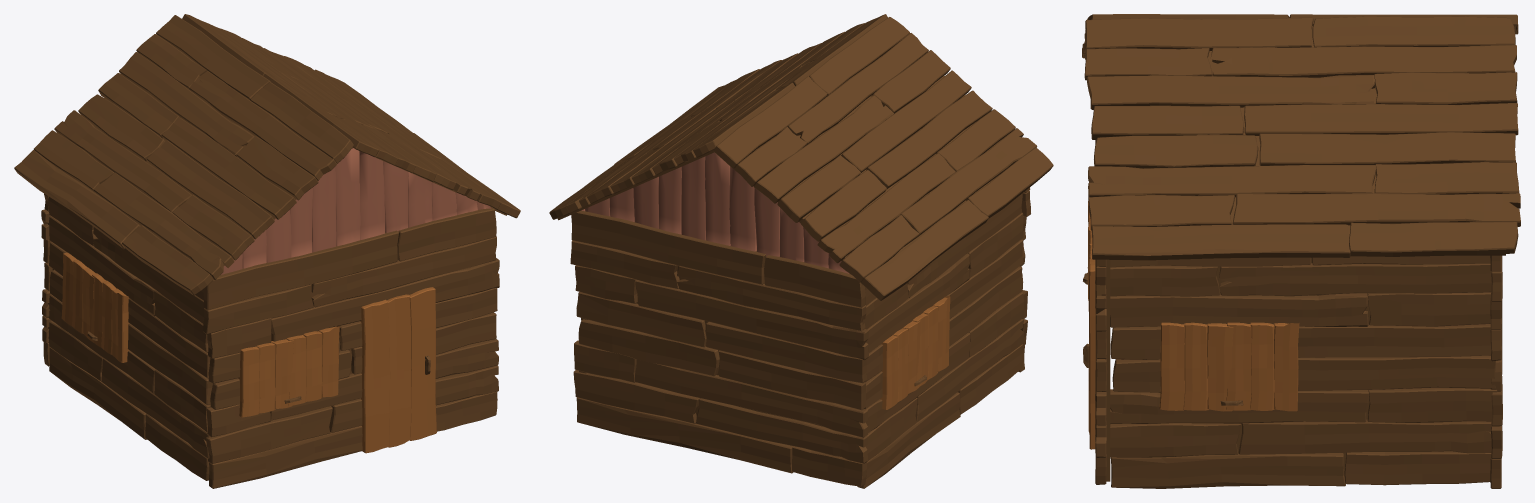
Rendered from WoodHouse.fbx.
The picture shows the model from 3 angles, left to right: view 1: azimuth 30°, elevation 25°; view 2: azimuth 150°, elevation 25°; view 3: azimuth 270°, elevation 25°; orthographic projection. The views are drawn at different scales.
Parts seen in each view (by area): view 1: WoodHouse; view 2: WoodHouse; view 3: WoodHouse.
Part boxes in pixels (left/top/right/bottom): WoodHouse: left=14, top=14, right=520, bottom=488; WoodHouse: left=549, top=14, right=1053, bottom=488; WoodHouse: left=1082, top=14, right=1520, bottom=488.
Size of the model in its own units: 873 by 788 by 804.
